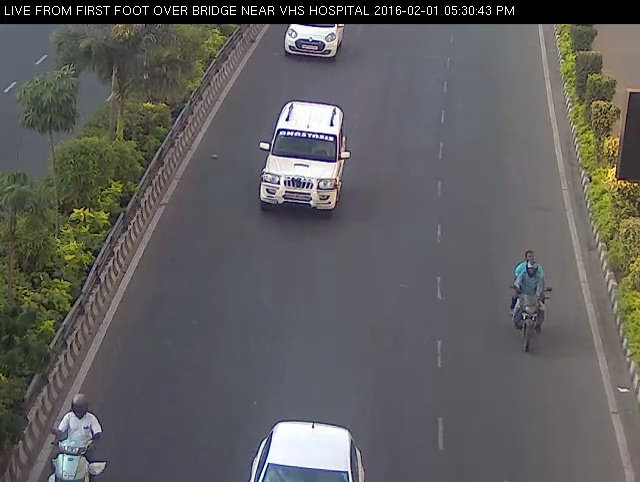Car: (245, 94, 364, 225), (223, 393, 386, 482), (271, 20, 355, 67)
Person: (32, 381, 114, 482), (503, 245, 560, 361)
